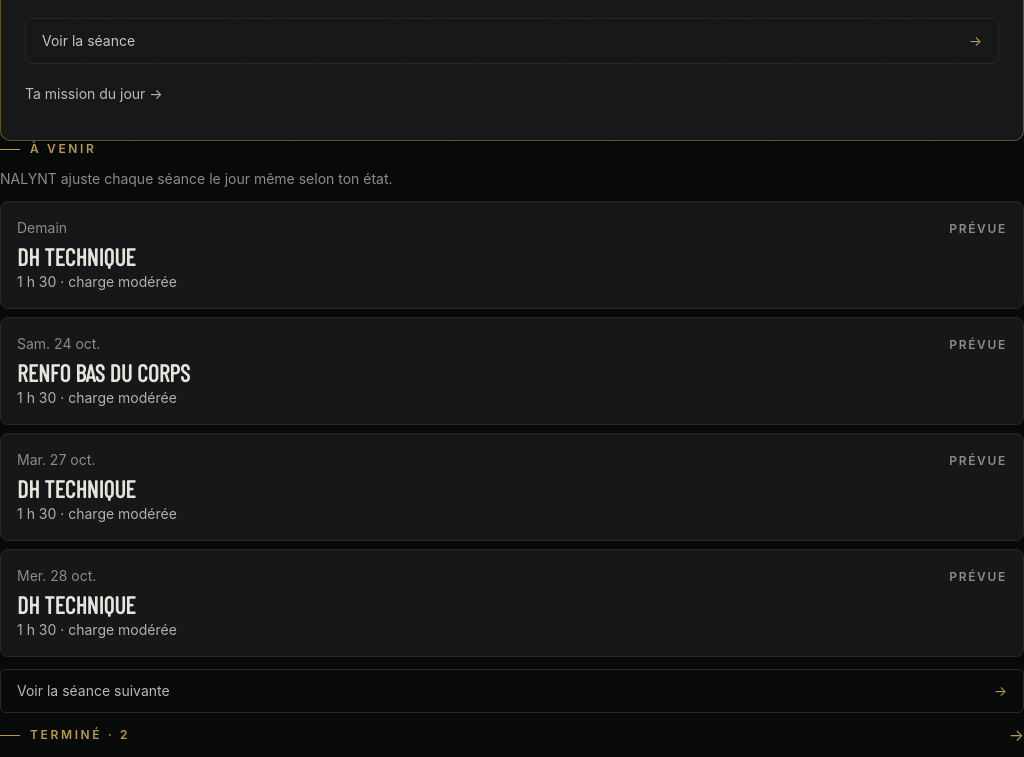
Test: ProgramSessions › past sessions are folded under 'Terminé · N': recorded completion, 'Non enregistrée', and a past adaptation
(page scrolled)
Click the heading "Terminé · 2". click: (80,735)
box: [30,727,130,742]
(page scrolled)
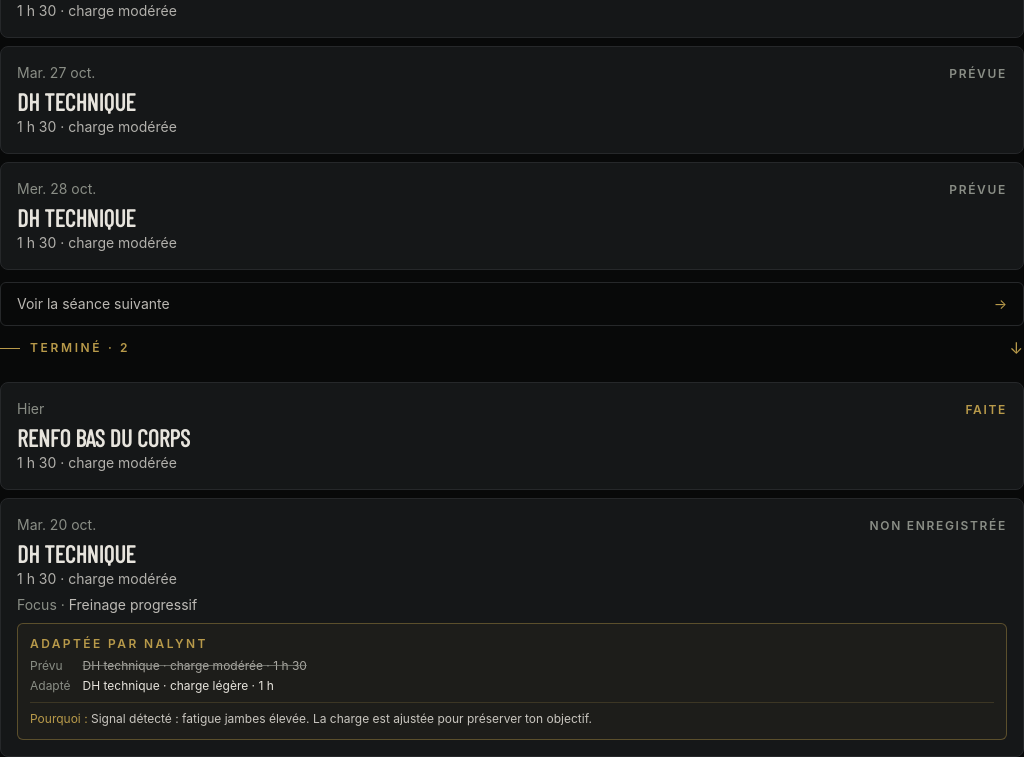
Now the text "Hier" is shown, box [17,399,44,419]
Now the text "Faite" is shown, box [965,402,1007,418]
Now the text "Non enregistrée" is shown, box [870,518,1007,534]
